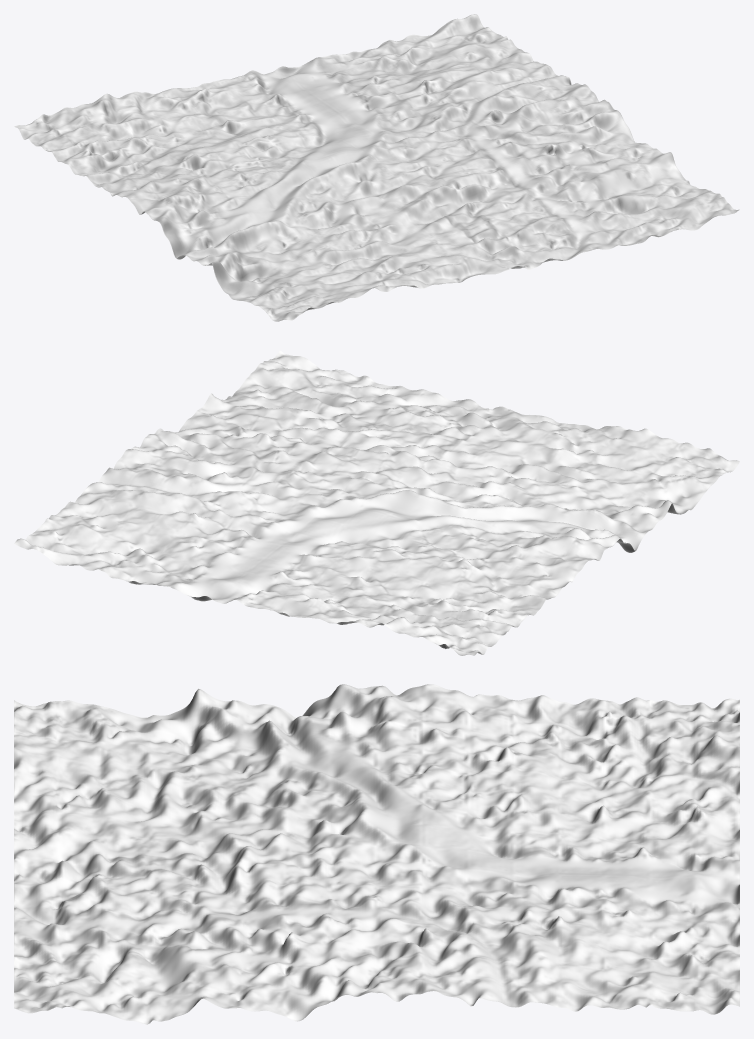
Rendered from 32_55_mccv_groundtruth.glb.
3 views of the same model, one above another, from view 1: azimuth 30°, elevation 25°; view 2: azimuth 150°, elevation 25°; view 3: azimuth 270°, elevation 25° (orthographic). The views are drawn at different scales.
Parts seen in each view (by area): view 1: TerrainTile; view 2: TerrainTile; view 3: TerrainTile.
Part boxes in pixels (<box>): TerrainTile: <box>14,14,739,321</box>; TerrainTile: <box>14,350,739,655</box>; TerrainTile: <box>14,684,739,1024</box>.
Bounding box in the file's own units: 533 × 40 × 533.
Materials: 1 (1 with a texture image).
